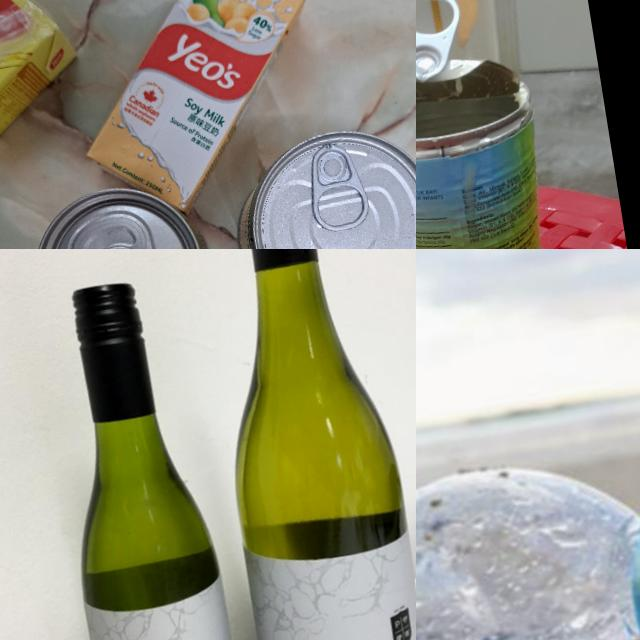aba de lata: (303, 140, 372, 233), (416, 0, 470, 82)
caixinha: (56, 0, 343, 225), (0, 0, 92, 183)
garrafa de vidro: (181, 249, 416, 640), (30, 268, 256, 640)
garrafa plástica: (416, 407, 640, 640)
lata: (416, 0, 562, 249), (219, 120, 416, 249), (24, 172, 218, 249)
